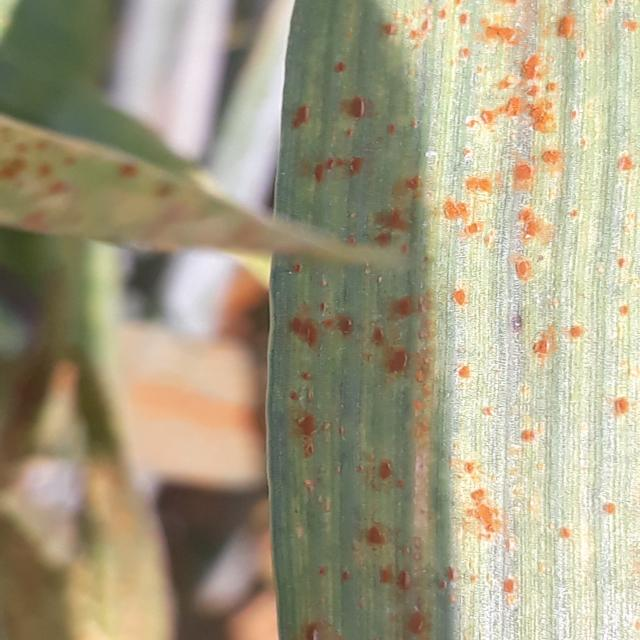orang_rust: (259, 3, 640, 640), (0, 118, 406, 276)
